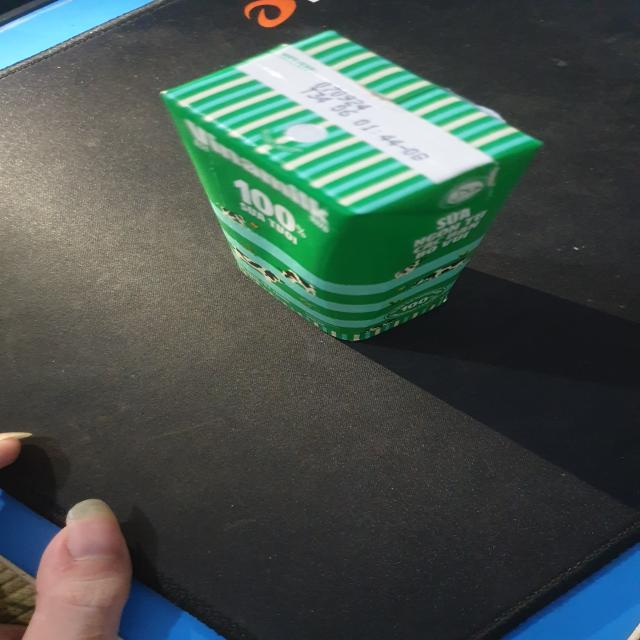Vina: (159, 27, 549, 348)
